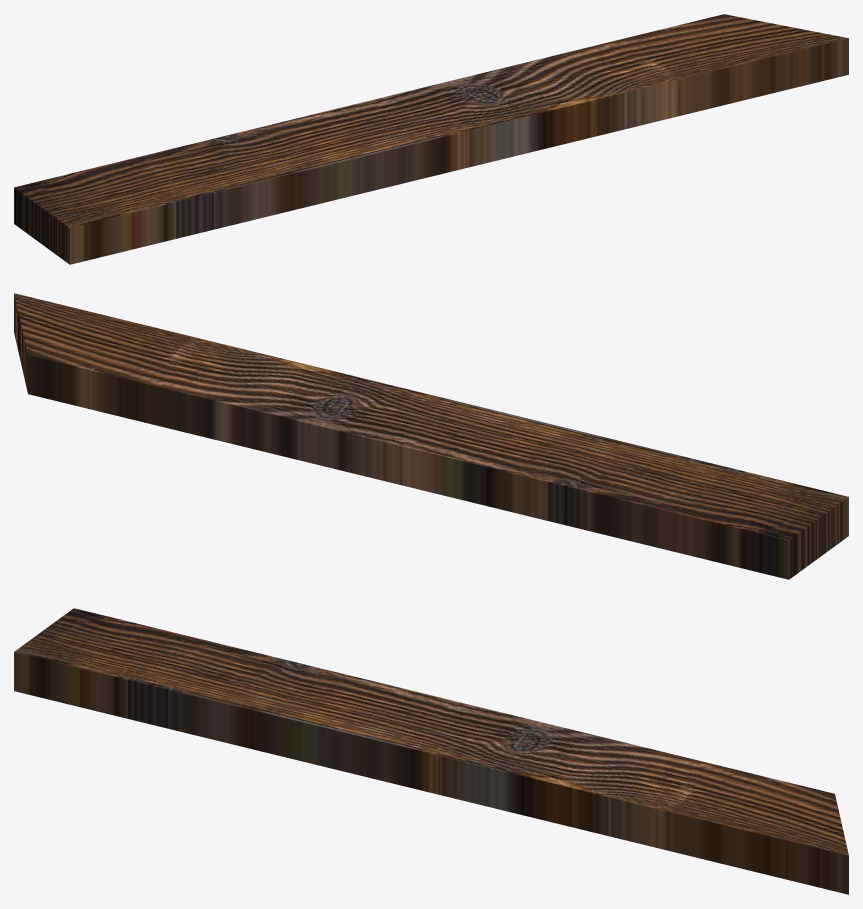
The model's file is Debris_woodScrap2.fbx.
3 views of the same model, one above another, from view 1: azimuth 30°, elevation 25°; view 2: azimuth 150°, elevation 25°; view 3: azimuth 330°, elevation 25° (orthographic). The views are drawn at different scales.
Parts seen in each view (by area): view 1: pCube3; view 2: pCube3; view 3: pCube3.
Boxes of the visible parts, bbox=[...] form: pCube3: bbox=[14, 14, 848, 264]; pCube3: bbox=[14, 293, 848, 579]; pCube3: bbox=[14, 608, 848, 894].
Bounding box in the file's own units: 12.08 × 0.5408 × 1.5.
Materials: 1 (1 with a texture image).
